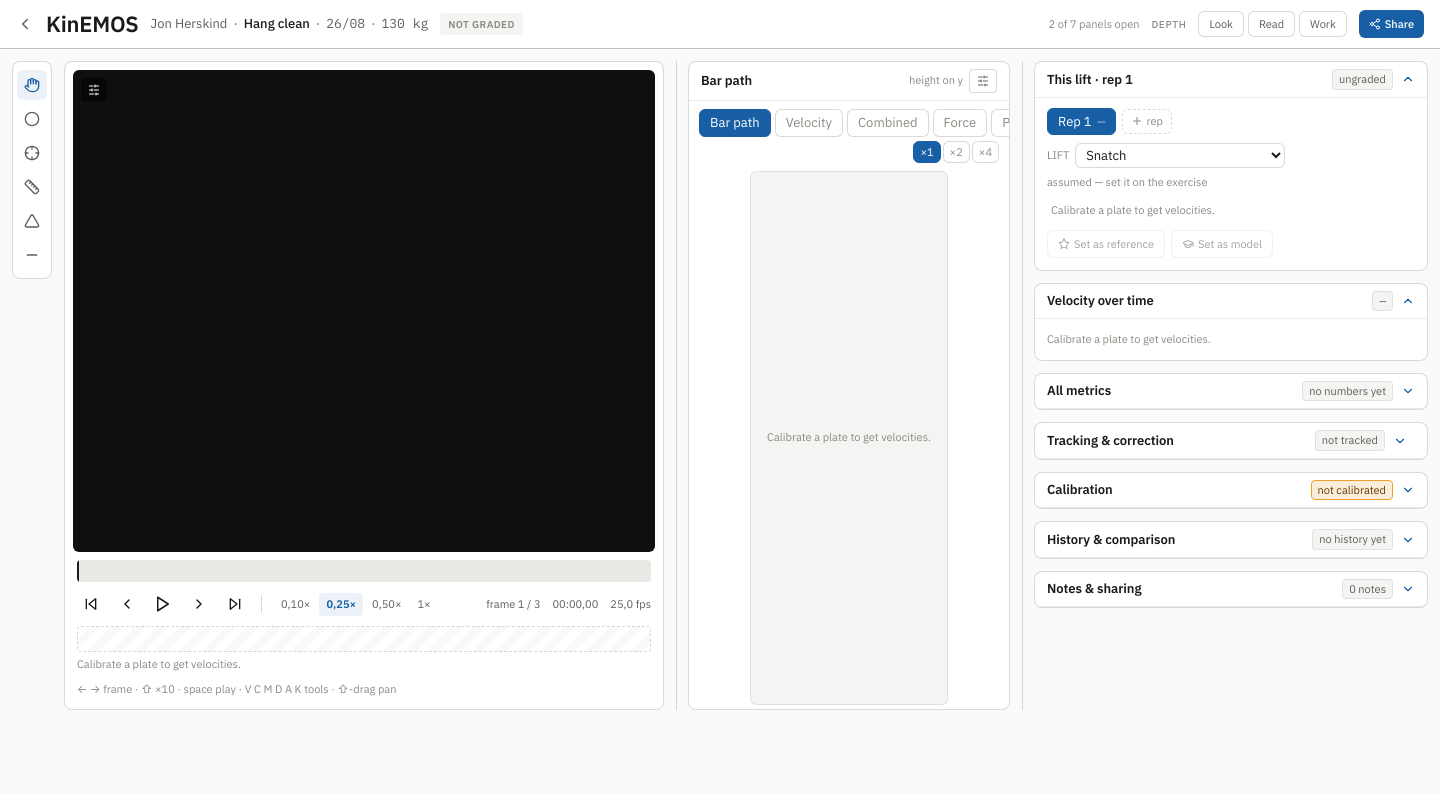
KinemosViewer › refuses to grade an uncalibrated clip, and says why
Expected: the text "NOT GRADED" is shown, x1=440 y1=13 x2=523 y2=35
What coordinates should you click on to do the following:
click the button "Tracking & correction not tracked"
I would click on:
 (1110, 440)
Its box is x1=1035 y1=423 x2=1419 y2=458.
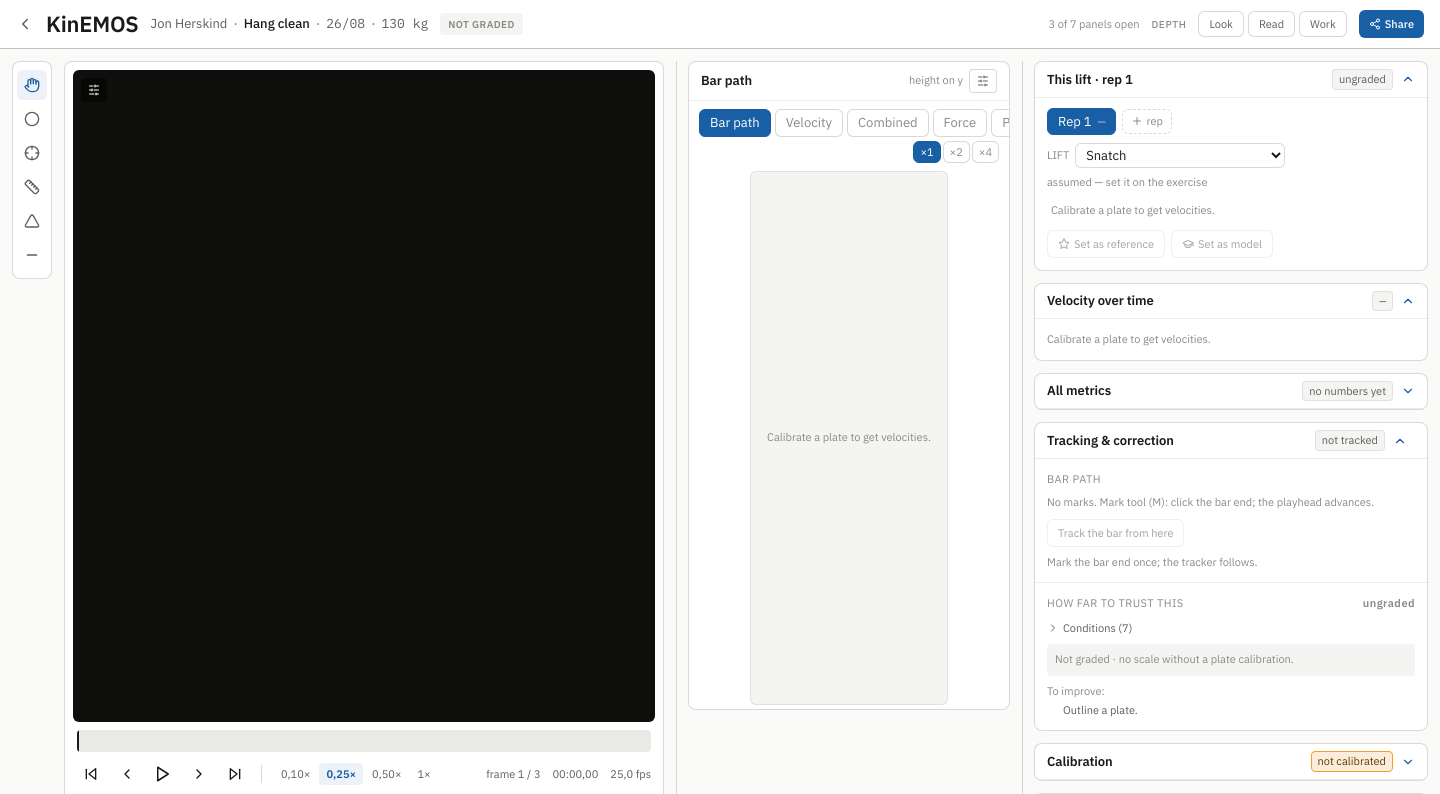
Expected: the 1st text "ungraded" is shown, x1=1332 y1=69 x2=1393 y2=90
Now the text "Not graded · no scale without a plate calibration." is shown, box x1=1047 y1=644 x2=1415 y2=676
